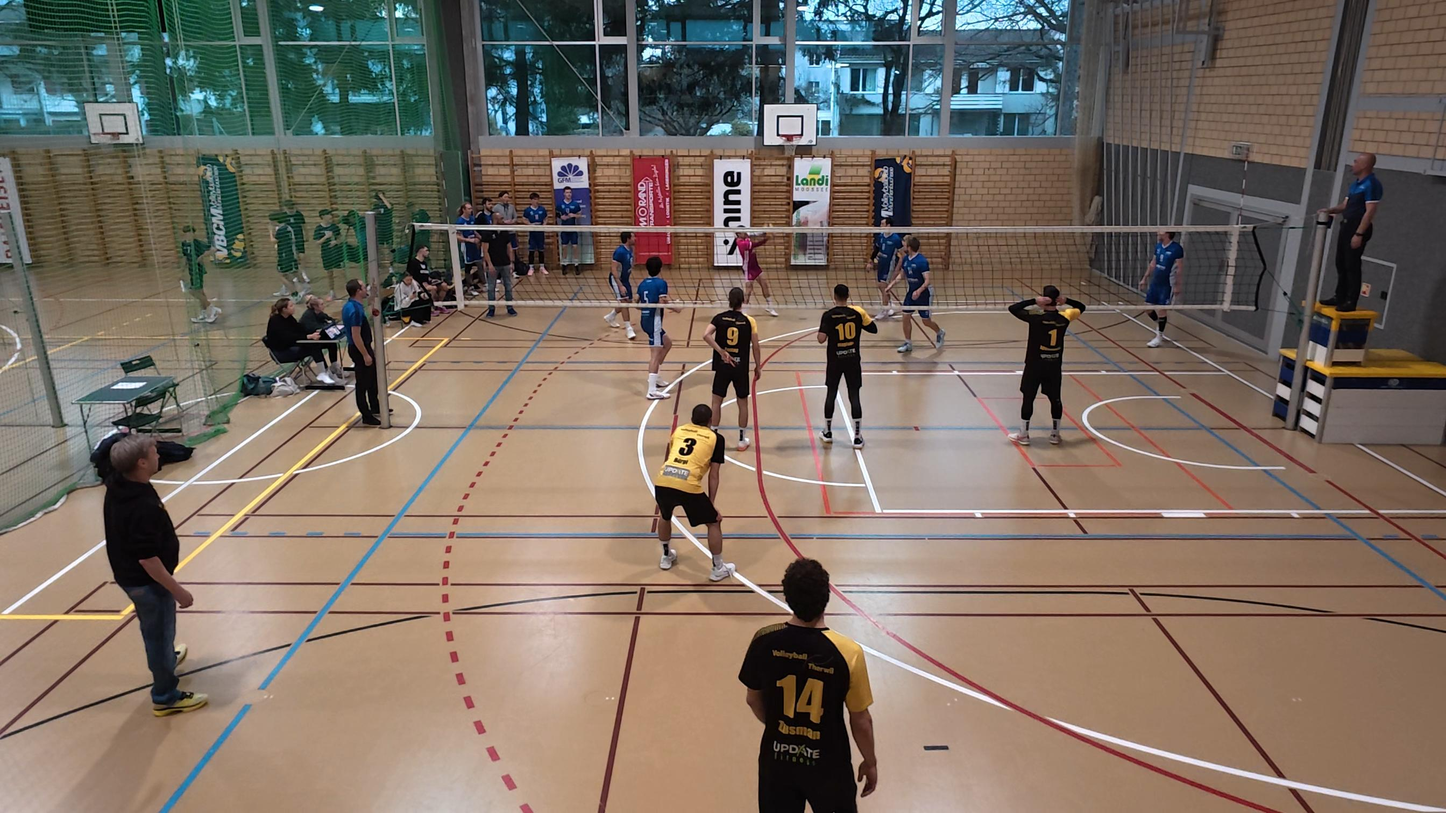Player: (739, 558, 879, 812), (653, 403, 736, 580), (1006, 287, 1081, 446), (816, 282, 878, 447), (705, 286, 758, 449), (633, 256, 678, 398), (897, 235, 945, 354), (1139, 229, 1185, 347), (869, 217, 905, 319), (605, 231, 637, 342)
Receive: (730, 223, 778, 317)
ball: (789, 211, 806, 230)
